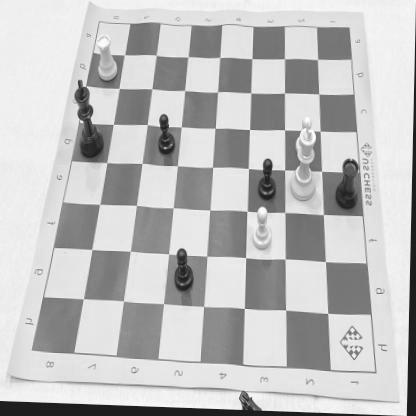black-king: (71, 75, 109, 167)
black-pawn: (170, 244, 199, 299), (154, 106, 180, 164), (256, 150, 282, 205)
black-rook: (334, 148, 370, 212)
white-king: (288, 122, 326, 206)
white-pawn: (248, 206, 276, 256), (292, 114, 319, 163)
white-rook: (94, 32, 123, 90)
